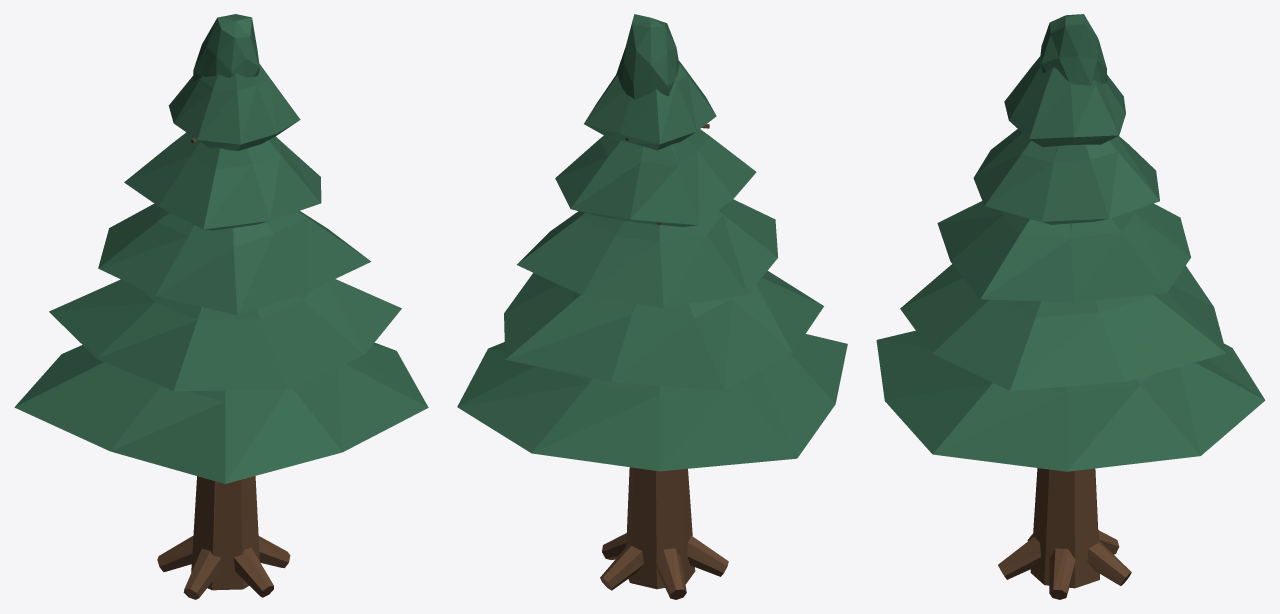
The model's file is pine.glb.
3 views of the same model, side by side, from view 1: azimuth 30°, elevation 25°; view 2: azimuth 150°, elevation 25°; view 3: azimuth 270°, elevation 25° (orthographic).
Parts seen in each view (by area): view 1: pine_tree; view 2: pine_tree; view 3: pine_tree.
Boxes of the visible parts, x1,y1,x2,y2 form: pine_tree: (14,14,428,599); pine_tree: (457,14,847,599); pine_tree: (876,14,1265,599).
Bounding box in the file's own units: 4.43 × 6.8 × 4.27.
